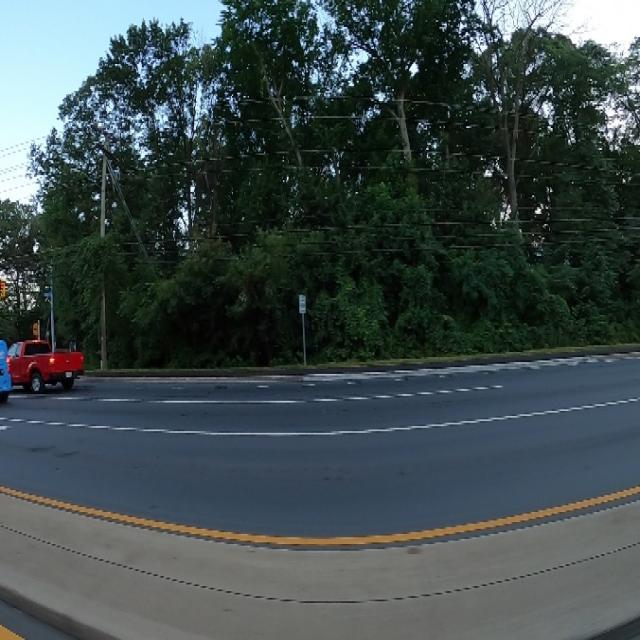car: (2, 312, 99, 396)
